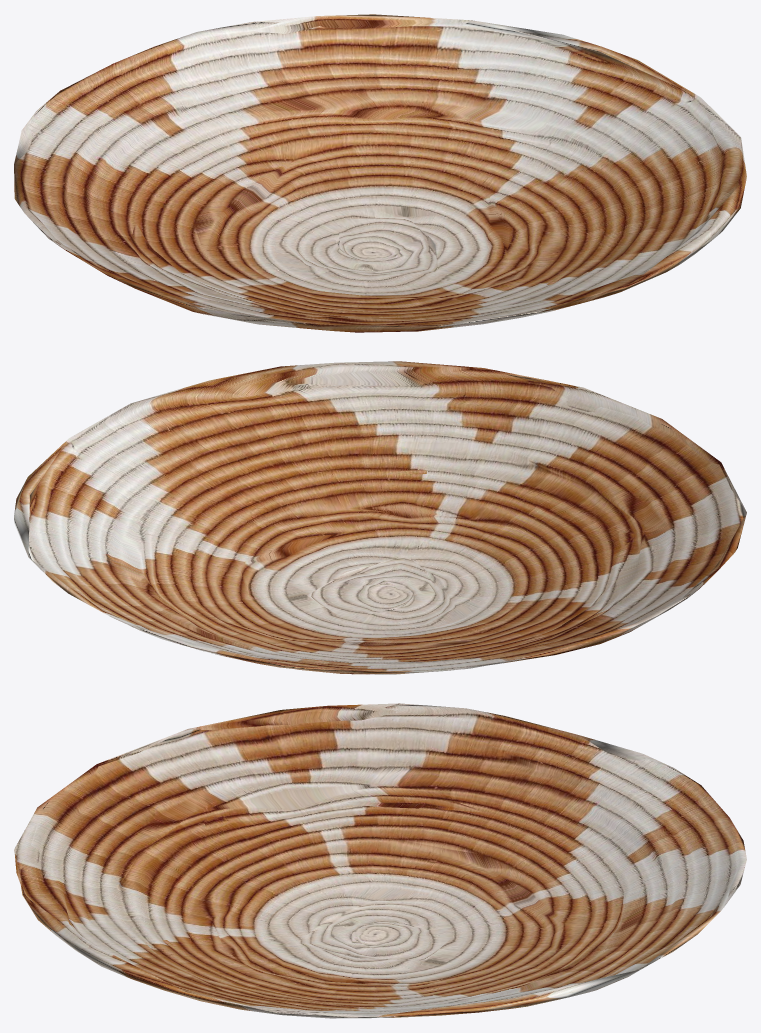
Rendered from sefed-8-.001.fbx.
3 views of the same model, one above another, from view 1: azimuth 30°, elevation 25°; view 2: azimuth 150°, elevation 25°; view 3: azimuth 270°, elevation 25° (orthographic).
Visible parts, largest first — view 1: sefed-8-.001; view 2: sefed-8-.001; view 3: sefed-8-.001.
Part boxes in pixels (box(x1,y1,x2,y2)): sefed-8-.001: box(14, 14, 746, 332); sefed-8-.001: box(14, 361, 746, 674); sefed-8-.001: box(14, 703, 746, 1018).
Bounding box in the file's own units: 37.68 × 4.9 × 37.77.
Materials: 1 (1 with a texture image).
